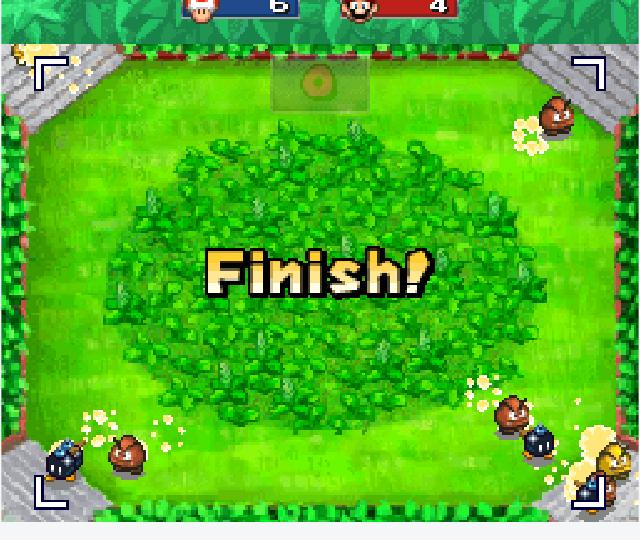bomb: (513, 419, 558, 463), (41, 444, 84, 483), (573, 471, 599, 508)
goomba: (532, 91, 578, 141), (105, 432, 151, 481), (490, 390, 530, 440), (594, 438, 635, 485)
